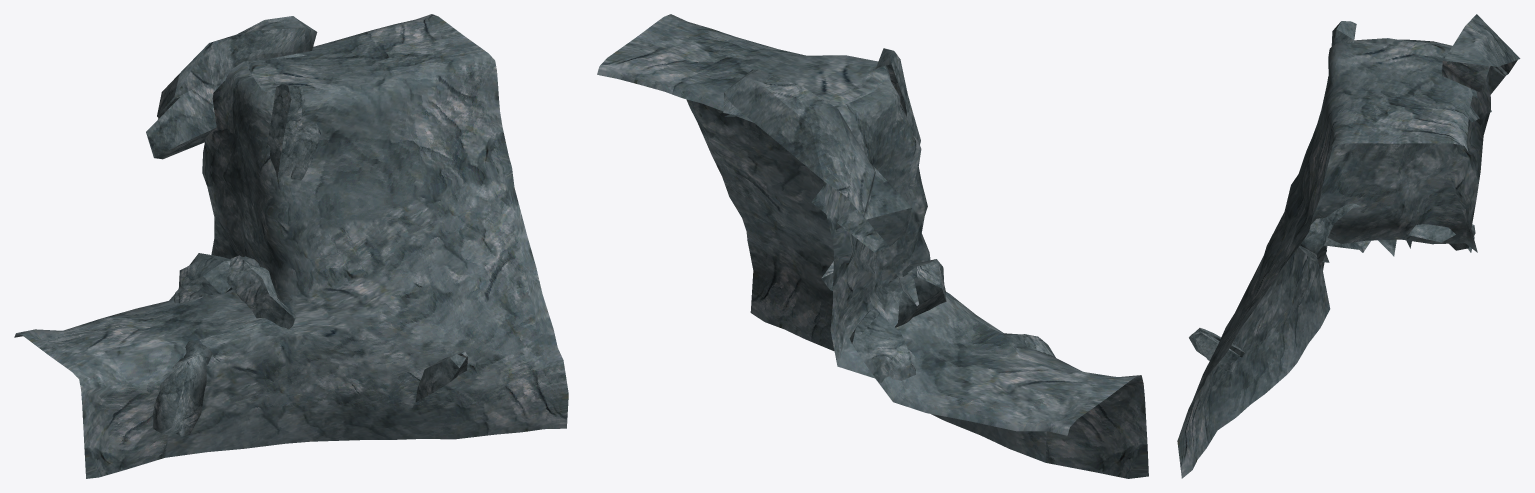
The model's file is WallUpPiece1.fbx.
3 views of the same model, side by side, from view 1: azimuth 30°, elevation 25°; view 2: azimuth 150°, elevation 25°; view 3: azimuth 270°, elevation 25° (orthographic). The views are drawn at different scales.
Parts seen in each view (by area): view 1: WallUpPiece1; view 2: WallUpPiece1; view 3: WallUpPiece1.
Part boxes in pixels (x1,y1,x2,y2): WallUpPiece1: [14, 14, 568, 478]; WallUpPiece1: [597, 14, 1148, 478]; WallUpPiece1: [1177, 14, 1520, 478].
Size of the model in its own units: 10.02 by 7.89 by 6.8.
Materials: 3 (3 with a texture image).
